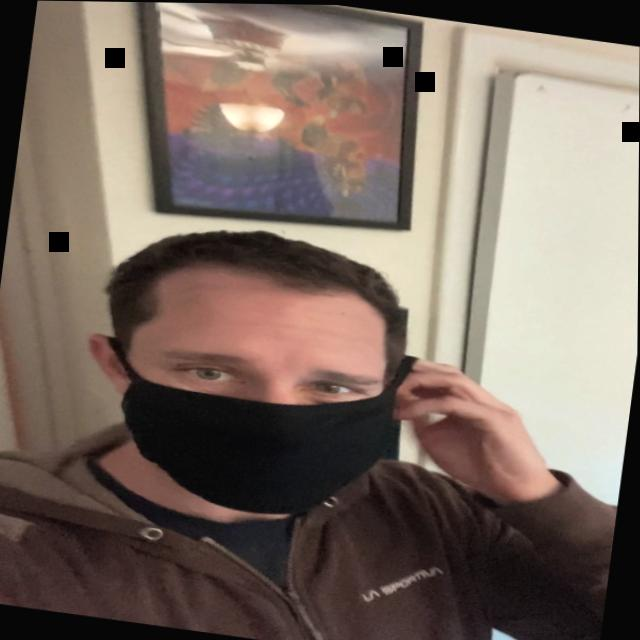Mask: (67, 223, 426, 559)
